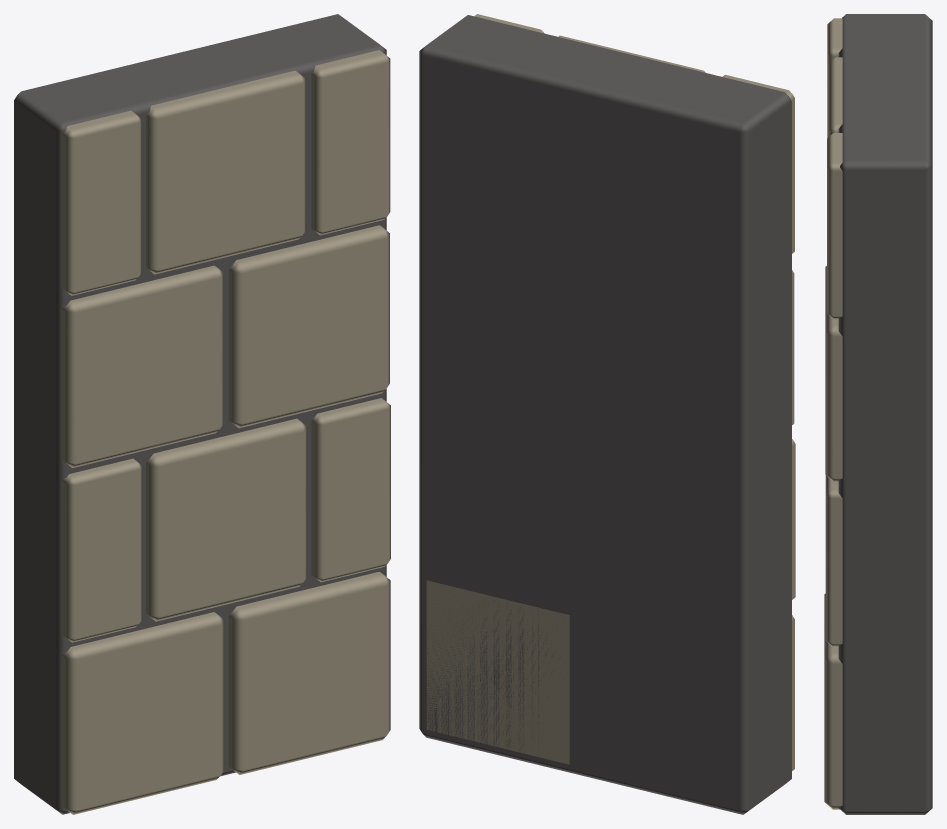
File: stone-halls-wall-retaining.d0696d1e.glb
3 views of the same model, side by side, from view 1: azimuth 30°, elevation 25°; view 2: azimuth 150°, elevation 25°; view 3: azimuth 270°, elevation 25° (orthographic). The views are drawn at different scales.
Visible parts, largest first — view 1: body; view 2: body; view 3: body.
Part boxes in pixels (box(x1,y1,x2,y2)): body: box(14, 14, 390, 814); body: box(419, 14, 795, 814); body: box(824, 14, 932, 814).
Bounding box in the file's own units: 1 × 2 × 0.3.
